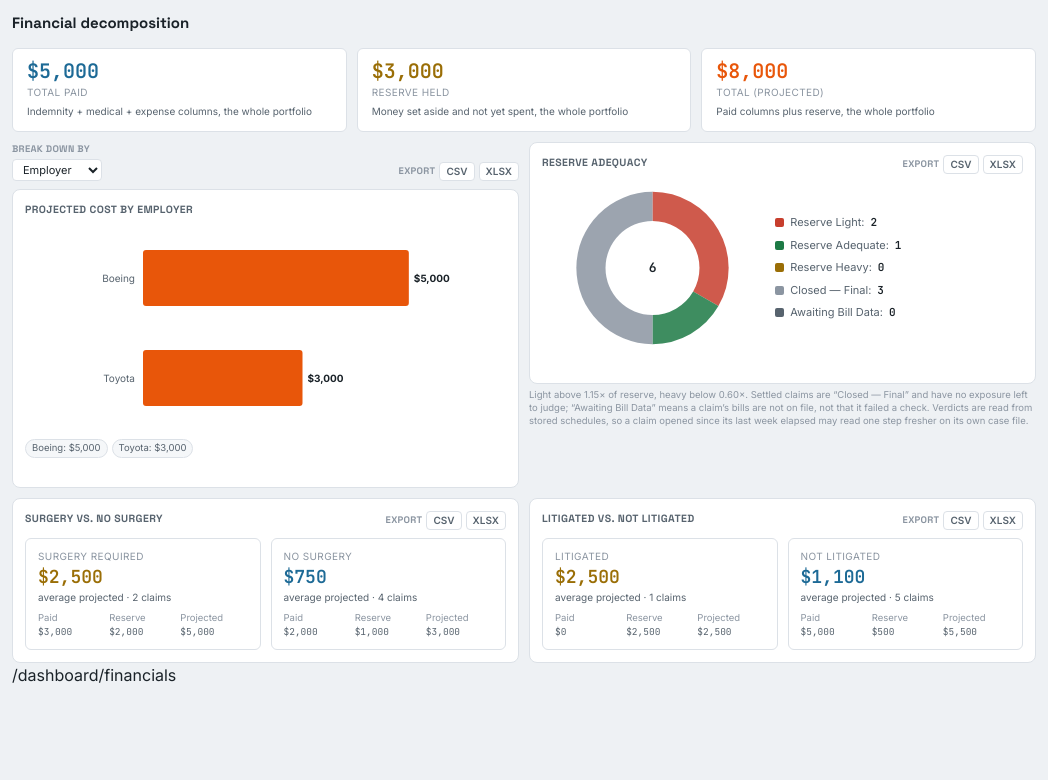
Scenario: all three totals open the unfiltered book, because all three are sums over it
Click the link with test id "financial-kpi-projected-link" at (826, 87), box [716,58,935,116]
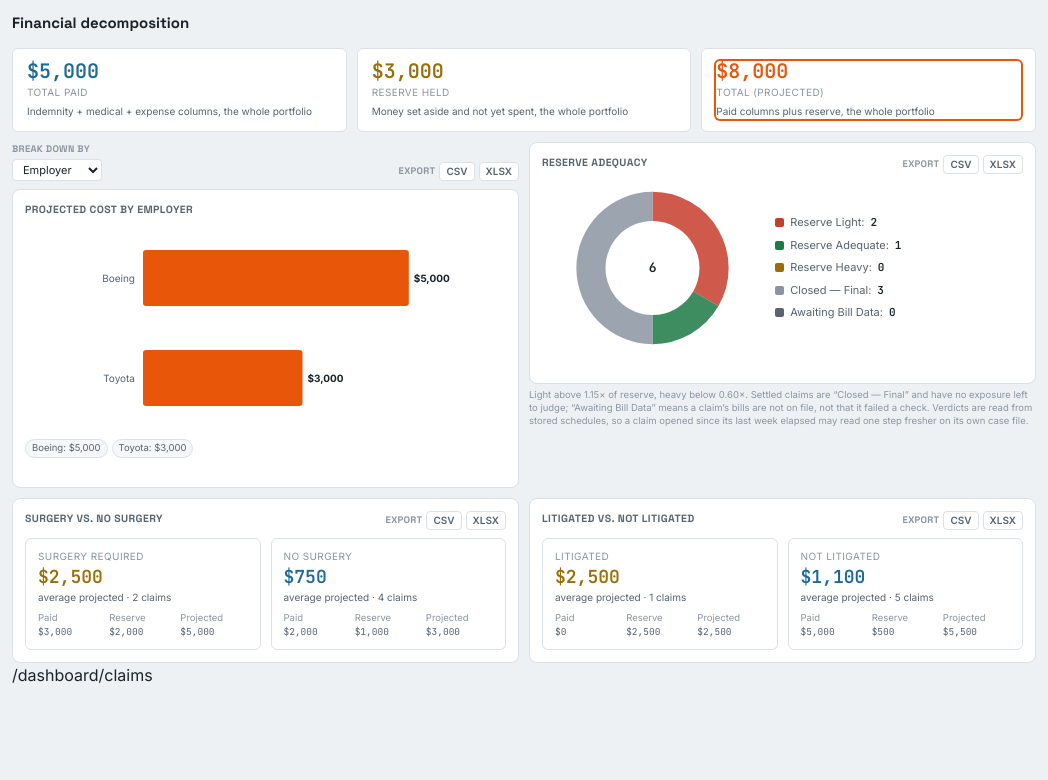
Now the text with test id "location" reads "/dashboard/claims", box [12,665,153,685]
